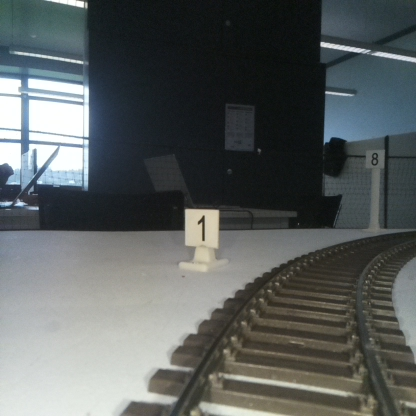white-stop-1: (185, 209, 219, 267)
